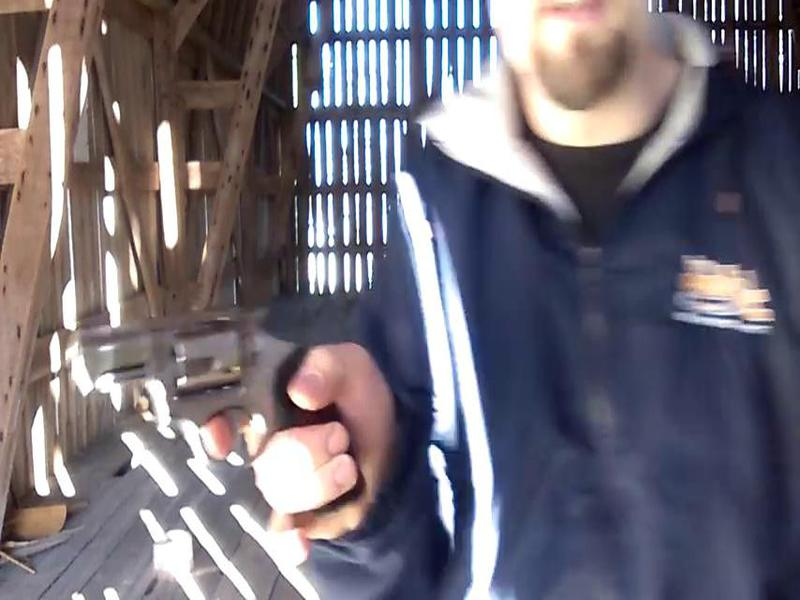Revolver: (60, 303, 351, 466)
